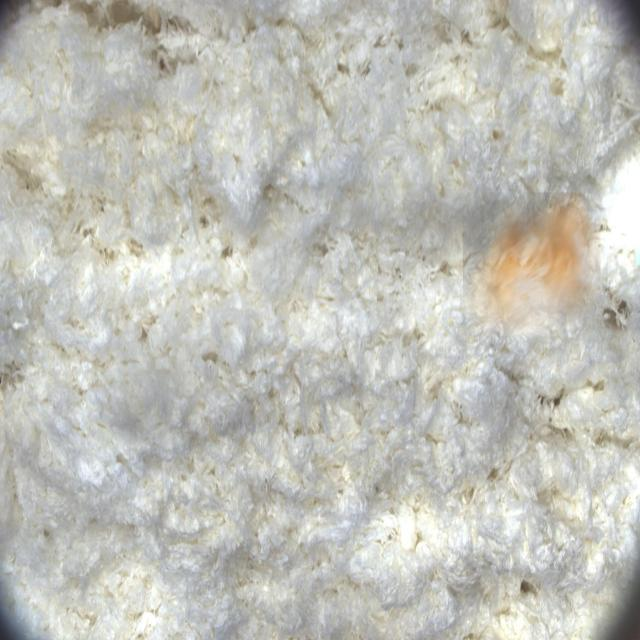dust: (463, 192, 601, 336)
